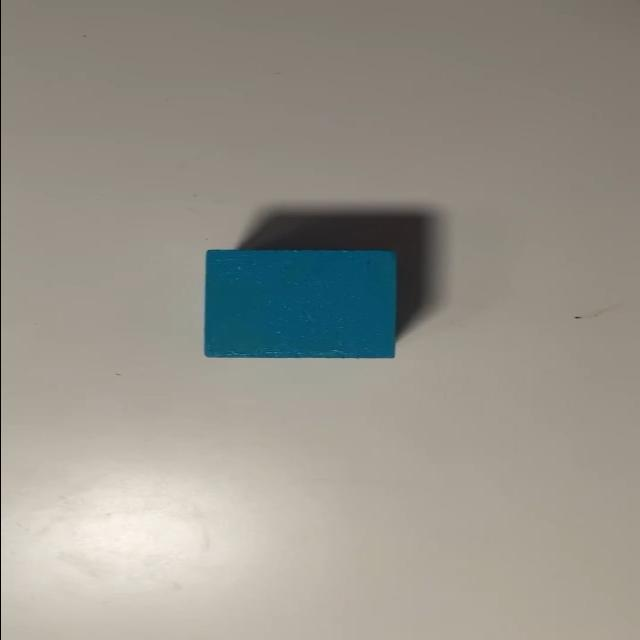blue_block: (203, 252, 393, 358)
